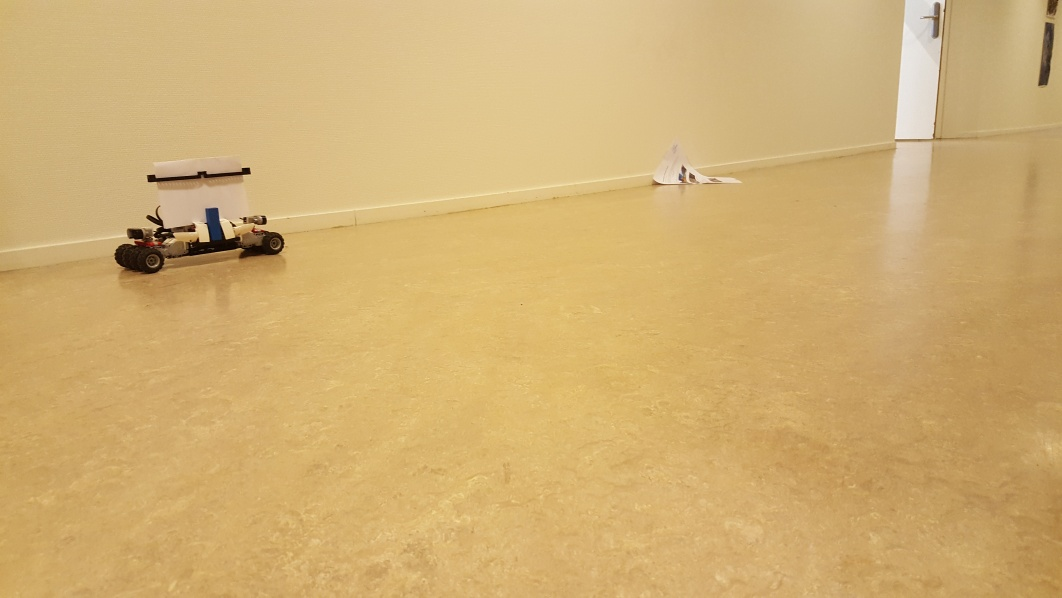beam: (206, 204, 224, 248)
